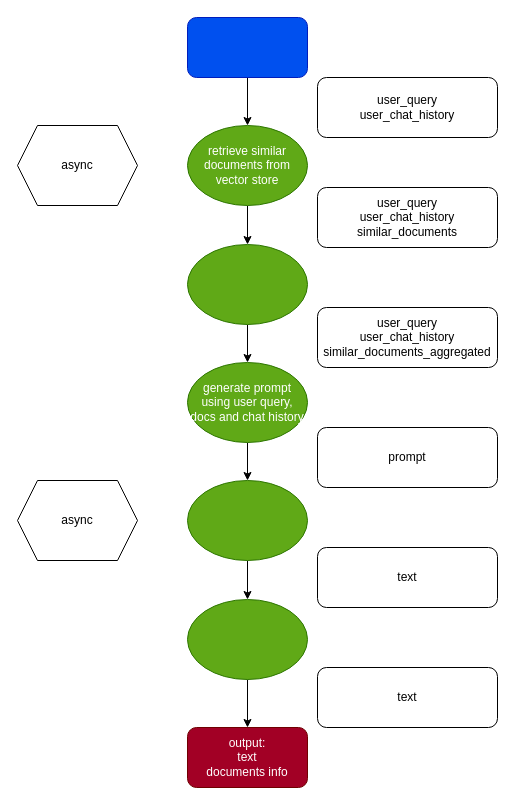
Some shapes in this 515 by 805 pixel diagram are drawn without their labels. Each missing label, with the centre of its shape:
"aggregate doc text into singular text" goes at (x=247, y=284).
"decorate output with documents info" goes at (x=247, y=639).
"Input: user message user chat history" goes at (x=247, y=47).
"prompt to LLM" goes at (x=247, y=520).
